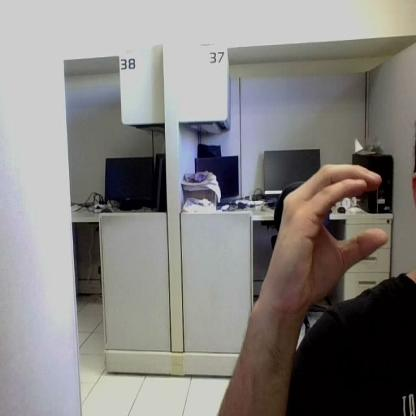C: (276, 164, 386, 285)
